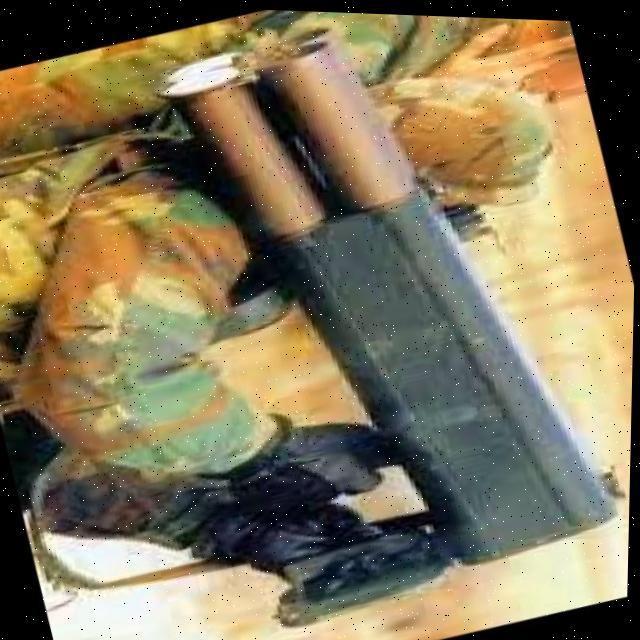rocket: (128, 4, 640, 618)
